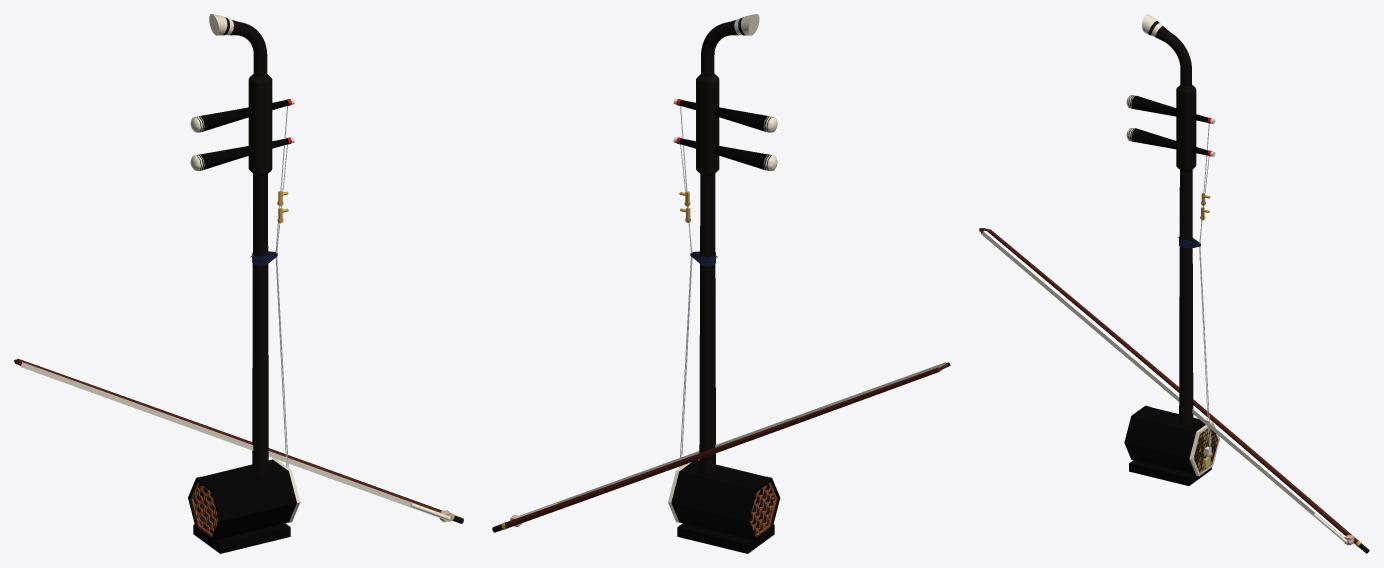
File: erhu.glb
3 renders of one model, left to right at view 1: azimuth 30°, elevation 25°; view 2: azimuth 150°, elevation 25°; view 3: azimuth 330°, elevation 25°, orthographic. The views are drawn at different scales.
Visible parts, largest first — view 1: Erhu; view 2: Erhu; view 3: Erhu.
Boxes of the visible parts, x1=… form: Erhu: x1=14, y1=14, x2=463, y2=553; Erhu: x1=492, y1=14, x2=950, y2=553; Erhu: x1=979, y1=14, x2=1369, y2=553.
Bounding box in the file's own units: 0.7394 × 0.8973 × 0.0934.
Materials: 17 (1 with a texture image).
